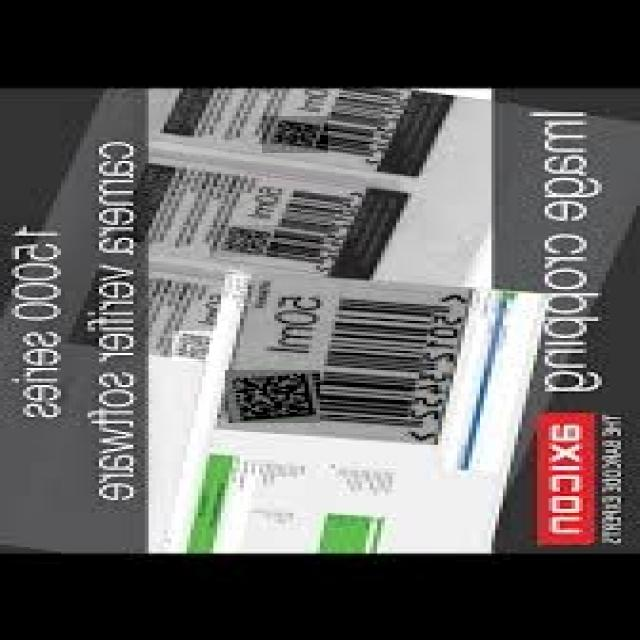DataMatrix: (225, 369, 320, 422), (262, 115, 328, 152), (213, 224, 278, 256), (172, 331, 217, 361)
